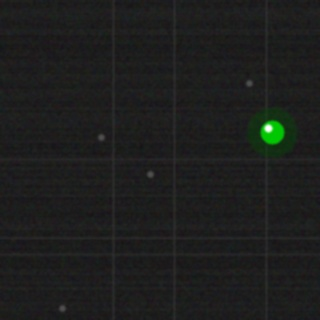green_normal: (258, 118, 286, 146)
